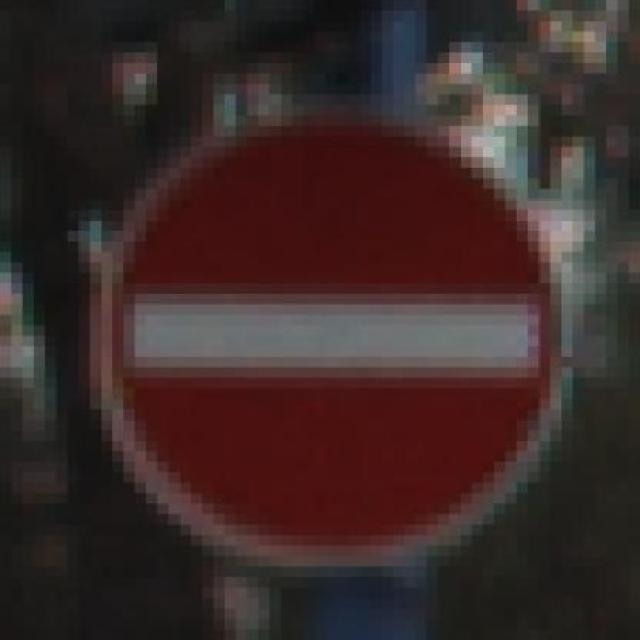B2: (100, 122, 564, 570)
